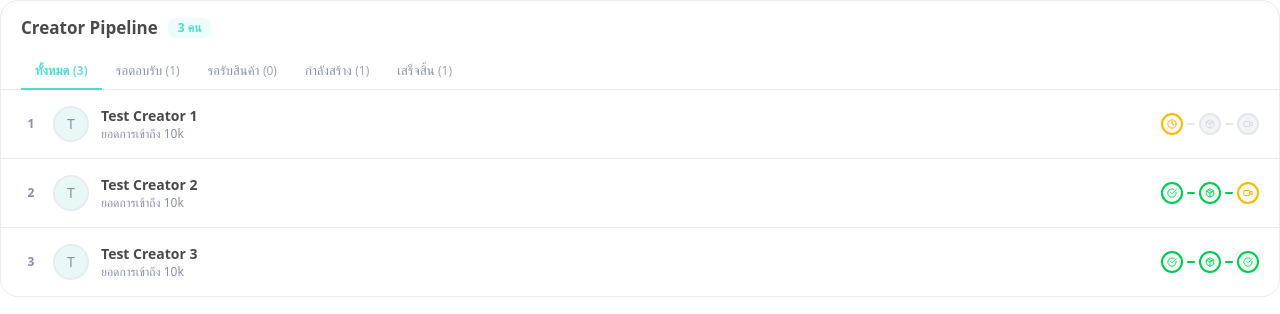
CreatorPipeline component › filters creators by tab
// Initial: 3. done: 1.
Click the button "เสร็จสิ้น (1)". click: {"x": 425, "y": 71}
box: [383,52,466,90]
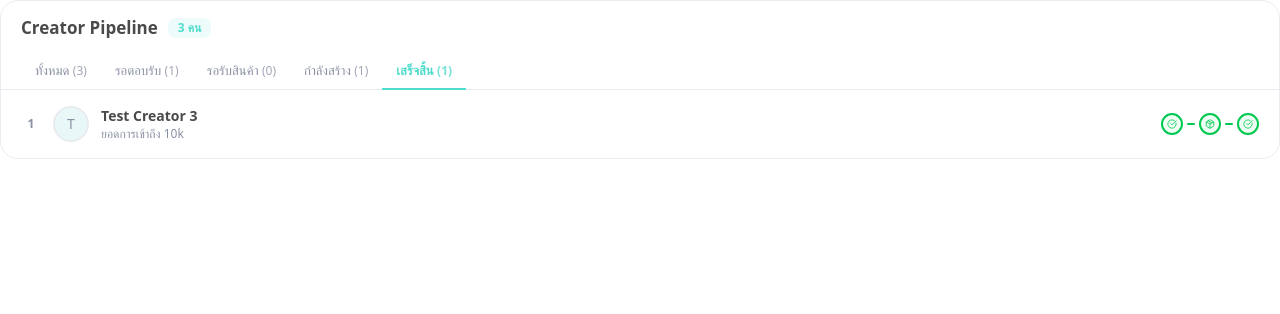
Expected: the text "Test Creator 3" is shown, [101,106,198,125]
Expected: the text "Test Creator 1" is gone
